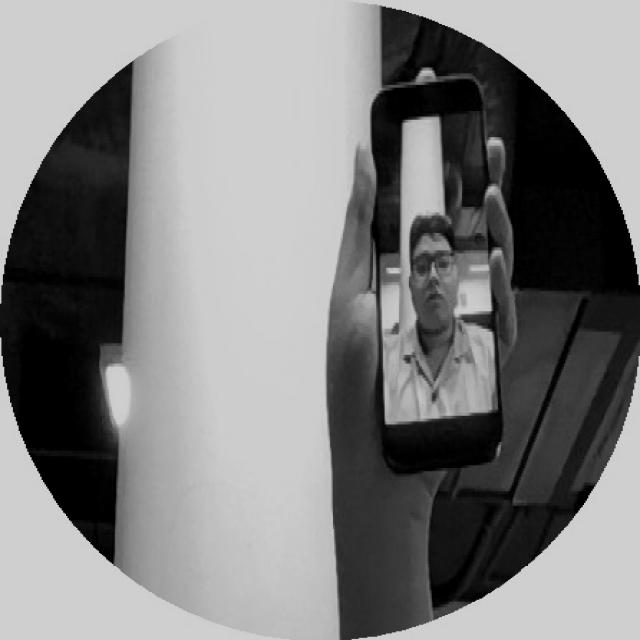fake: (324, 65, 539, 499), (319, 66, 525, 502)
